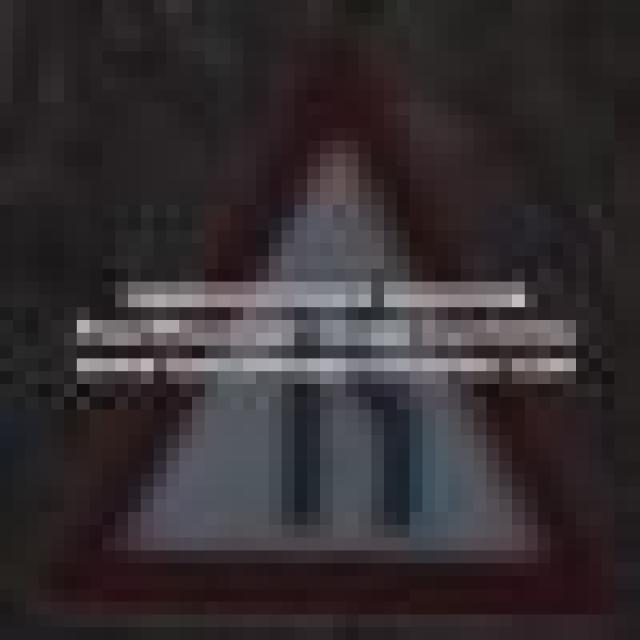narrow_road: (38, 26, 628, 627)
